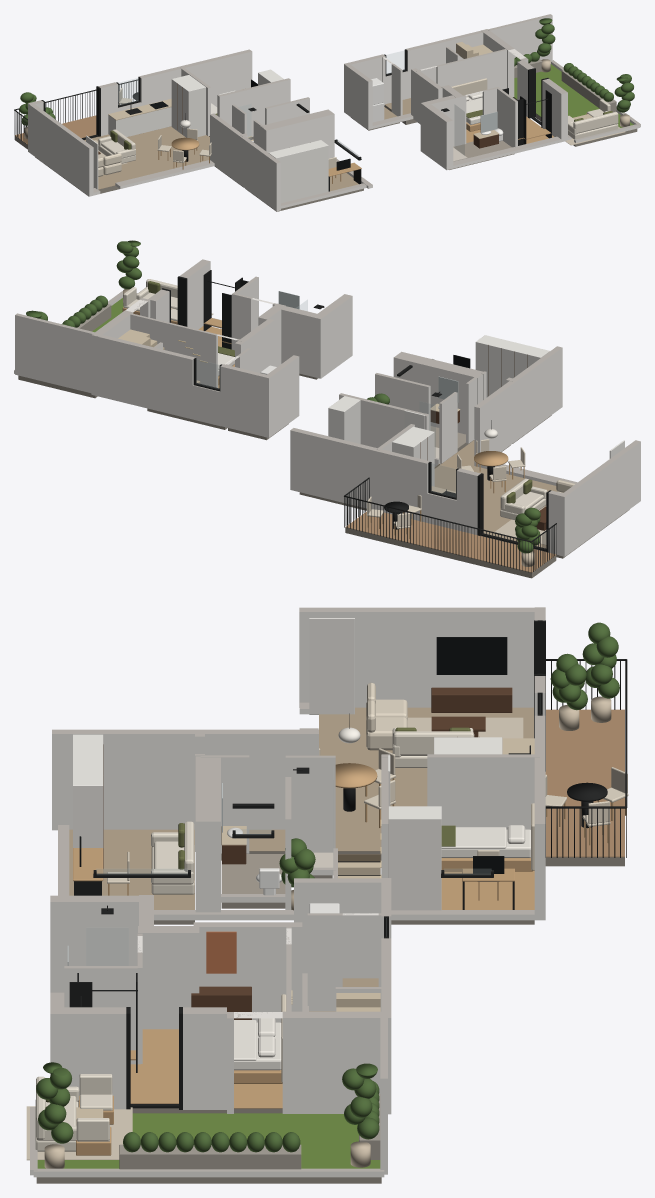
File: apt-3.glb
The picture shows the model from 3 angles, top to bottom: view 1: azimuth 30°, elevation 25°; view 2: azimuth 150°, elevation 25°; view 3: azimuth 270°, elevation 25°; orthographic projection. The views are drawn at different scales.
Parts seen in each view (by area): view 1: Wall hall-W, Wall W, Wall N-facade.002, Study wardrobe | body, Floor | living, Wall bath-S, Wall bed1-S, Wall master-N.001, Kitchen tall units | body, Wall lo-N.001, Wall bathlo-W, Wall svc-W (+39 smaller); view 2: Wall N-facade.002, Wall lo-N.001, Wall hall-W, Wall W, Parapet 3, Floor | balcony, Wall lo-N, Wall master-N.001, Wall bathlo-NW, Wall bath-S, Study wardrobe | body, Wall svc-W (+27 smaller); view 3: Wall hall-W, Wall W, Wall lo-E-N, Floor | balcony, Wall bed1-W, Floor | garden, Wall bathlo-W, Wall master-W, Floor | living, Wall svc-W, Wall lo-E-S.001, Kids wardrobe | body (+41 smaller).
Part boxes in pixels (box(x1,y1,x2,y2)): Wall hall-W: box(210, 113, 280, 211); Wall W: box(28, 104, 93, 196); Wall N-facade.002: box(138, 49, 252, 106); Study wardrobe | body: box(269, 140, 328, 203); Floor | living: box(84, 126, 208, 189); Wall bath-S: box(260, 109, 334, 158); Wall bed1-S: box(219, 78, 290, 136); Wall master-N.001: box(436, 49, 506, 89); Kitchen tall units | body: box(171, 75, 205, 137); Wall lo-N.001: box(405, 30, 483, 98); Wall bathlo-W: box(423, 104, 453, 169); Wall svc-W: box(344, 64, 372, 129); Wall N-facade.002: box(290, 428, 430, 522); Wall lo-N.001: box(92, 335, 195, 419); Wall hall-W: box(474, 346, 562, 467); Wall W: box(559, 440, 640, 556); Parapet 3: box(15, 313, 95, 392); Floor | balcony: box(345, 511, 556, 572); Wall lo-N: box(220, 364, 271, 437); Wall master-N.001: box(130, 313, 217, 387); Wall bathlo-NW: box(281, 306, 325, 378); Wall bath-S: box(393, 351, 483, 434); Study wardrobe | body: box(475, 335, 549, 397); Wall svc-W: box(264, 355, 299, 437); Wall hall-W: box(52, 729, 318, 830); Wall W: box(299, 607, 534, 707); Wall lo-E-N: box(282, 1011, 391, 1114); Floor | balcony: box(545, 709, 624, 857); Wall bed1-W: box(427, 754, 539, 829); Floor | garden: box(37, 1113, 380, 1168); Wall bathlo-W: box(50, 895, 138, 992); Wall master-W: box(193, 922, 302, 1022); Floor | living: box(319, 707, 533, 829); Wall svc-W: box(294, 878, 381, 978); Wall lo-E-S.001: box(50, 1007, 126, 1109); Kids wardrobe | body: box(388, 806, 441, 910).
Bounding box in the file's own units: 22.15 × 3.94 × 11.9.
